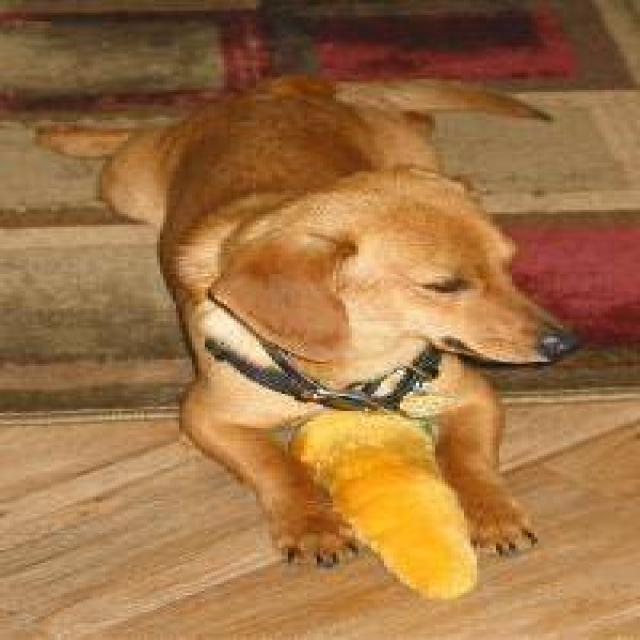dog: (32, 71, 582, 578)
